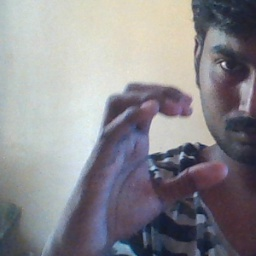C: (101, 77, 232, 211)
